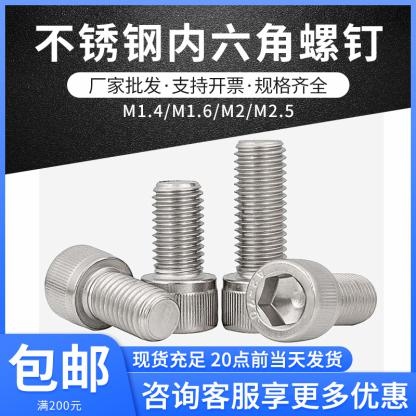FOD: (219, 138, 302, 334), (42, 243, 178, 340), (136, 178, 218, 335), (249, 255, 378, 344)
